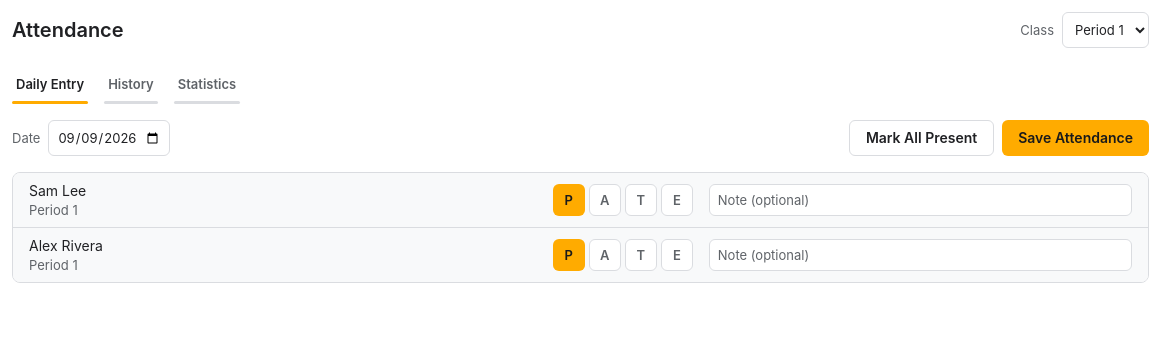
Scenario: AttendancePage entry view › saves one entry per in-scope student with the chosen statuses and notes
Expected: the button "Alex Rivera" is shown, [29,236,103,256]
Click the button named "Absent: Sam Lee" at (605, 200), box [589,184,621,216]
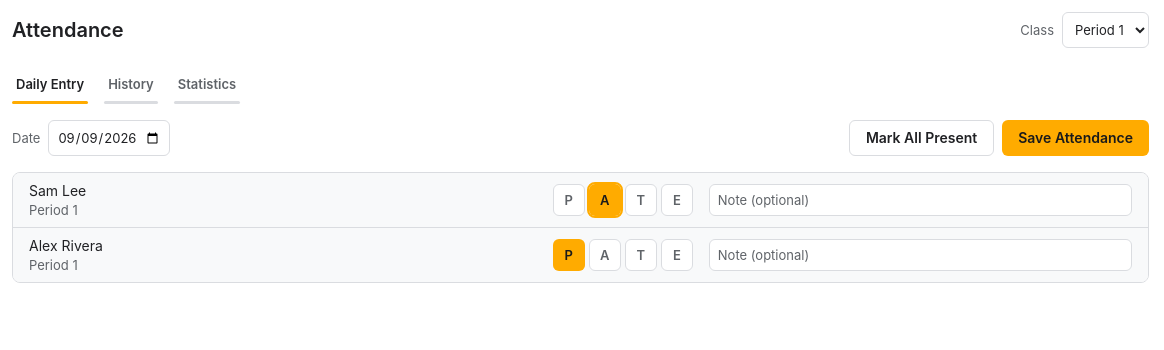
Type "called home" into the field named "Note for Sam Lee" at (920, 200), box [709,184,1132,216]
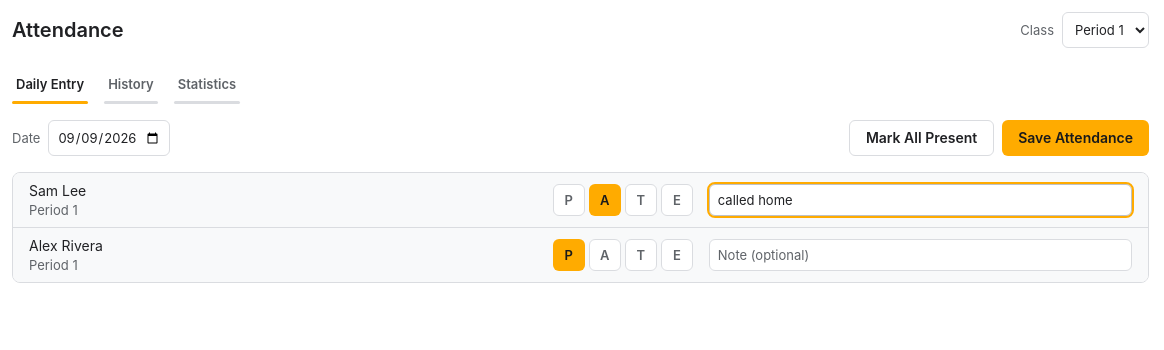
Click the button "Save Attendance" at (1076, 138), box [1002,120,1149,156]
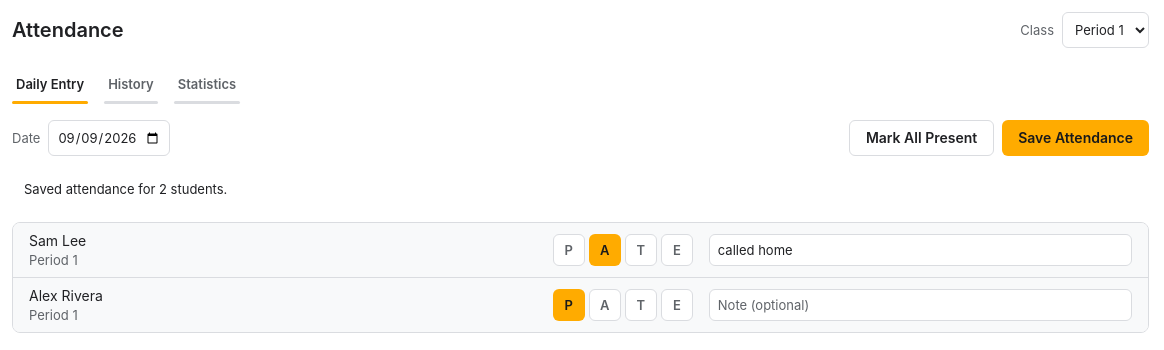
Result: the text "Saved attendance for 2 students." is shown at [12,172,1149,206]
